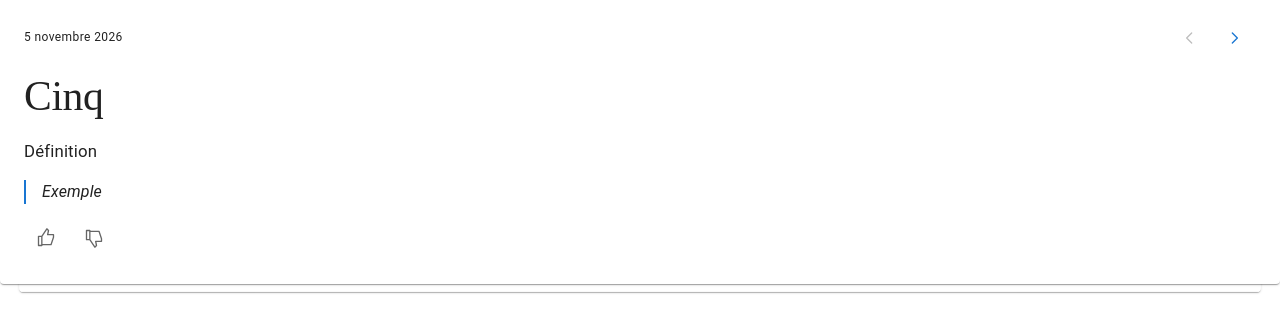
permet de lire plusieurs questions enregistrées pendant le remplissage réseau
Later steps or results of the test are not shown.
Check: the element with class "deck-underneath" shows "Cache quatre", box [42,87,250,132]
Click the button named "Autre découverte" at (1234, 38), box [1212,16,1256,60]
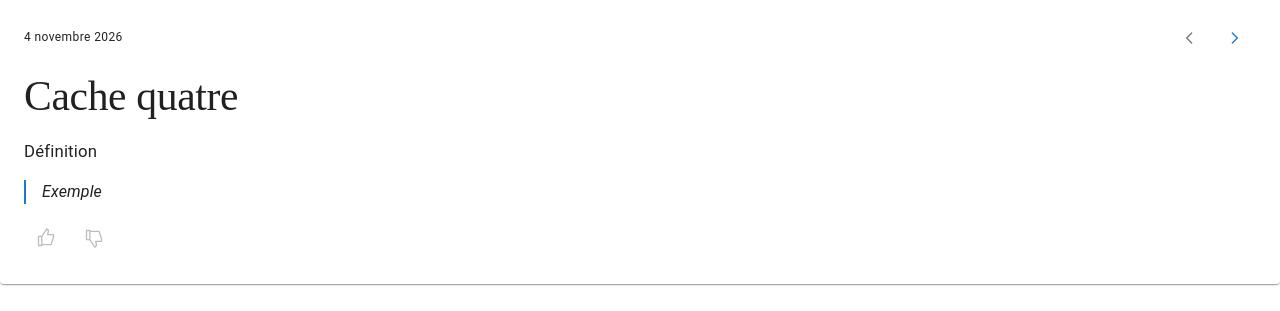
Check: the heading "Cache quatre" is shown, box [24,73,238,119]
Click the button named "Autre découverte" at (1234, 38), box [1212,16,1256,60]
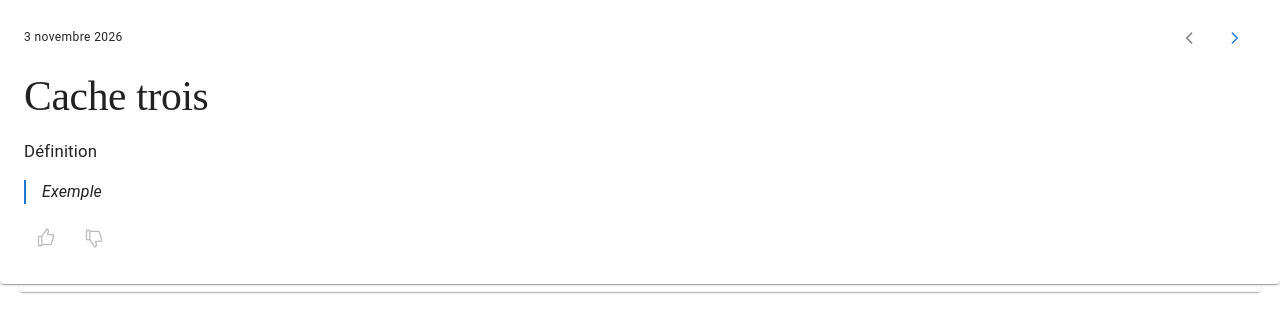
Check: the heading "Cache trois" is shown, box [24,73,208,119]
Click the button named "Autre découverte" at (1234, 38), box [1212,16,1256,60]
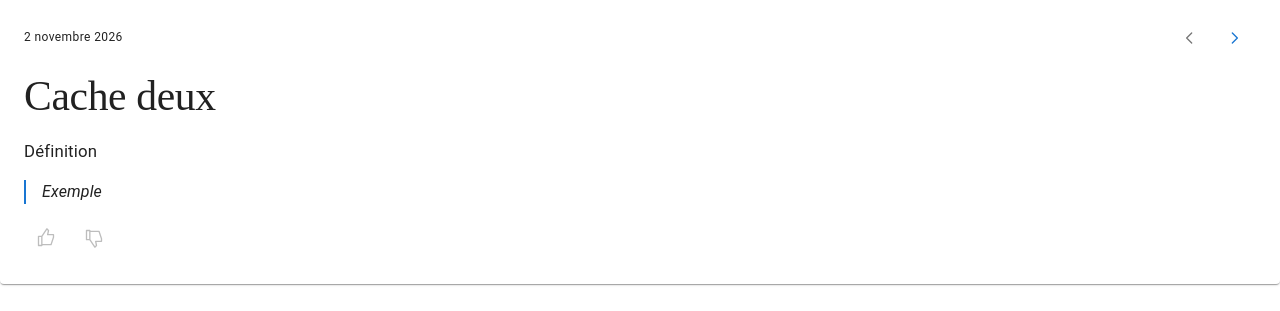
Check: the heading "Cache deux" is shown, box [24,73,216,119]
Click the button named "Autre découverte" at (1234, 38), box [1212,16,1256,60]
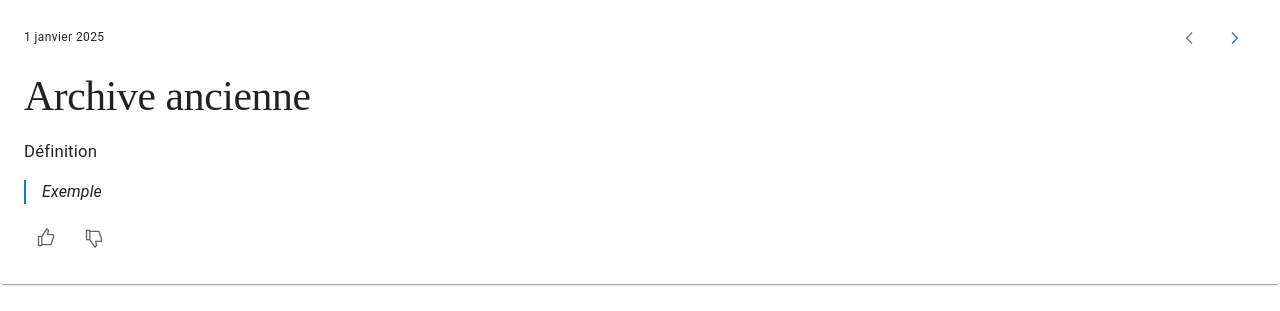
Check: the heading "Archive ancienne" is shown, box [24,73,311,119]
